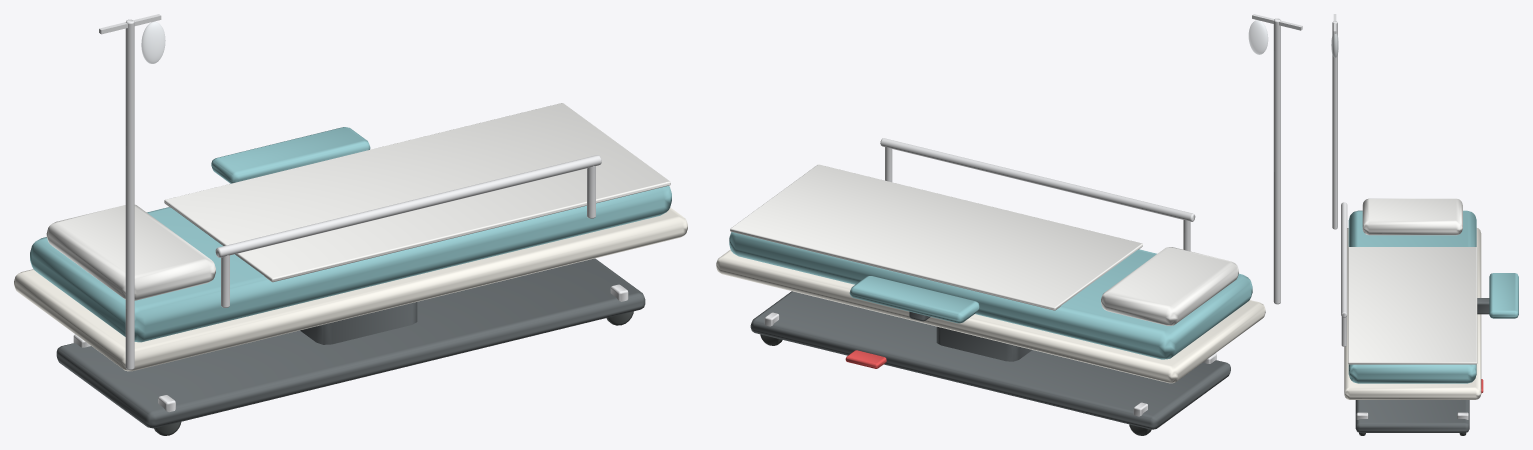
The model's file is camilla_tp.glb.
The picture shows the model from 3 angles, left to right: view 1: azimuth 30°, elevation 25°; view 2: azimuth 150°, elevation 25°; view 3: azimuth 270°, elevation 25°; orthographic projection. The views are drawn at different scales.
Visible parts, largest first — view 1: sabana, base, colchon, chasis, almohada, bar_larguero, reposa, goteo_pie, columna, goteo_bolsa; view 2: sabana, base, colchon, chasis, almohada, reposa, bar_larguero, goteo_pie, columna; view 3: sabana, colchon, almohada, base, chasis, reposa, goteo_pie, bar_larguero, reposa_soporte.
Boxes of the visible parts, <box> form: sabana: <box>164,103,670,282</box>; base: <box>56,258,645,428</box>; colchon: <box>30,185,671,342</box>; chasis: <box>14,207,687,371</box>; almohada: <box>46,204,215,300</box>; bar_larguero: <box>215,155,601,257</box>; reposa: <box>211,127,370,183</box>; goteo_pie: <box>125,19,134,369</box>; columna: <box>300,302,417,344</box>; goteo_bolsa: <box>141,21,165,63</box>; sabana: <box>730,164,1142,310</box>; base: <box>750,291,1230,429</box>; colchon: <box>729,232,1252,359</box>; chasis: <box>716,250,1265,383</box>; almohada: <box>1101,247,1238,325</box>; reposa: <box>849,276,979,323</box>; bar_larguero: <box>880,138,1195,221</box>; goteo_pie: <box>1273,18,1280,304</box>; columna: <box>936,326,1031,361</box>; sabana: <box>1348,247,1477,364</box>; colchon: <box>1348,210,1476,383</box>; almohada: <box>1362,198,1462,235</box>; base: <box>1355,400,1469,432</box>; chasis: <box>1344,228,1481,399</box>; reposa: <box>1489,273,1518,318</box>; goteo_pie: <box>1332,21,1337,229</box>; bar_larguero: <box>1341,202,1347,317</box>; reposa_soporte: <box>1477,298,1489,314</box>.
Bounding box in the file's own units: 1.8 × 1.28 × 0.8225.
